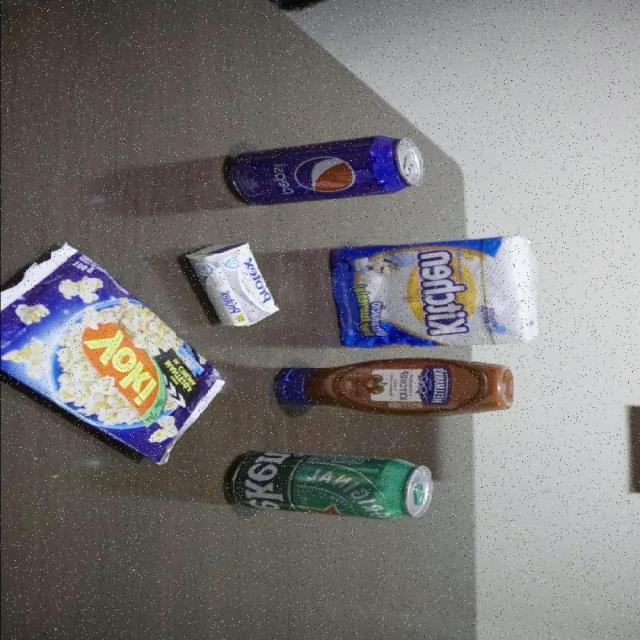BeerCan: (221, 450, 433, 520)
Ketchup: (271, 356, 517, 417)
Napkin: (331, 232, 542, 349)
Popcorn: (0, 240, 226, 466)
Soap: (181, 241, 281, 328)
SodaCan: (223, 134, 426, 211)
